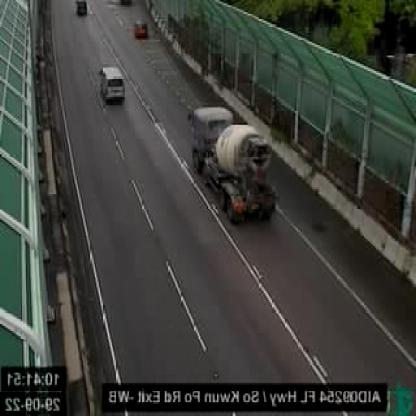Car: (96, 61, 132, 106), (133, 17, 152, 45), (70, 0, 91, 17)
Truck: (186, 95, 286, 227)
